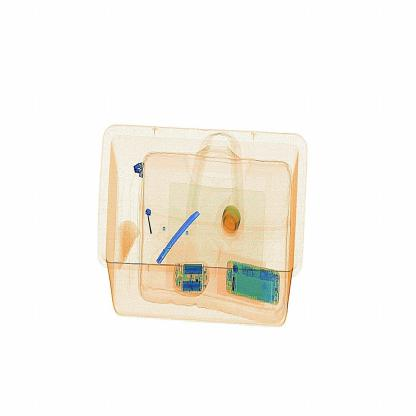pliers: (152, 203, 210, 264)
